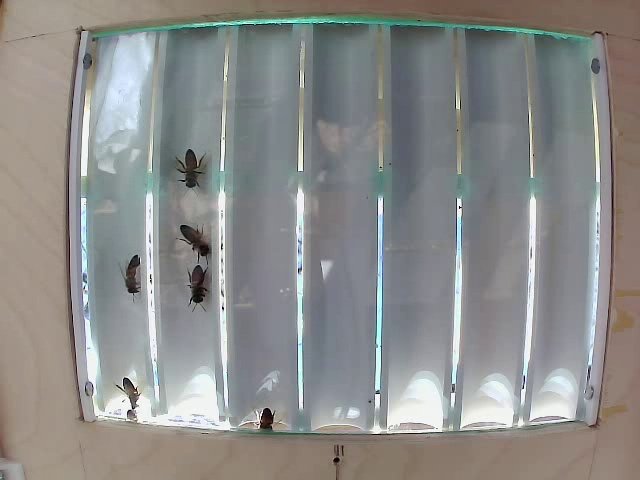bee: (99, 241, 152, 299), (181, 251, 221, 317), (175, 215, 223, 270), (173, 132, 210, 189)
